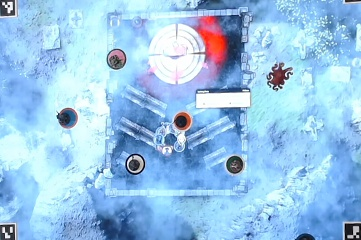giant_red_octopus: (262, 59, 296, 94)
green: (224, 153, 247, 176)
light_blue_orange: (55, 107, 78, 130)
orange: (171, 110, 194, 133)
pink_green: (104, 47, 127, 70)
white: (123, 153, 146, 176)
